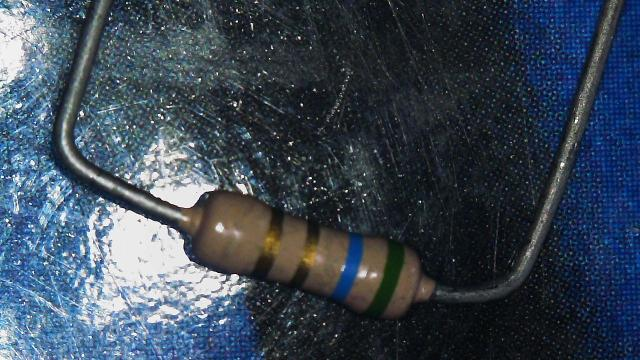blue: (330, 234, 364, 304)
gold: (252, 208, 284, 280), (289, 221, 320, 289)
green: (362, 240, 405, 318)
resistor: (151, 165, 451, 349)
